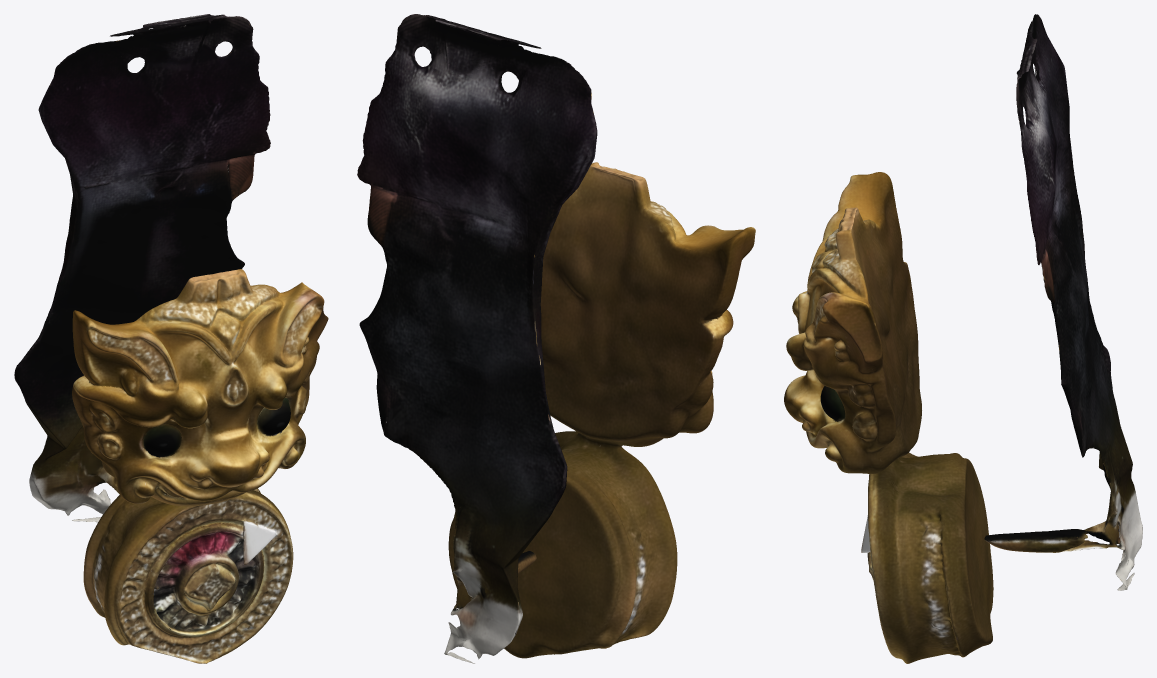
3 views of the same model, side by side, from view 1: azimuth 30°, elevation 25°; view 2: azimuth 150°, elevation 25°; view 3: azimuth 270°, elevation 25° (orthographic). The views are drawn at different scales.
Size of the model in its own units: 0.4417 by 0.9209 by 0.484.
1 material, 1 textured.
